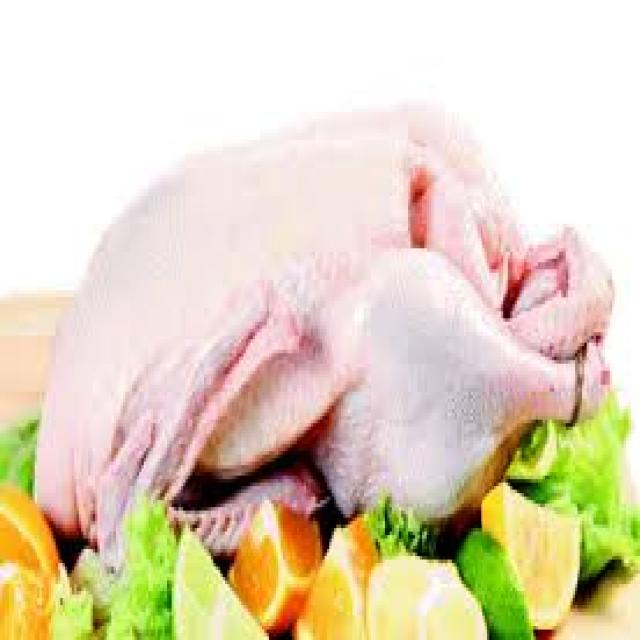chicken: (34, 103, 613, 561)
